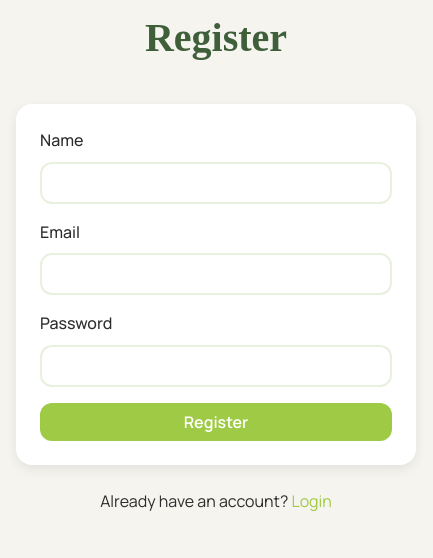
it: Register Page › shows validation error for short name
Type "A" into the field labelled "Name" at {"x": 216, "y": 183}, box top-left (40, 162), bottom-right (392, 204)
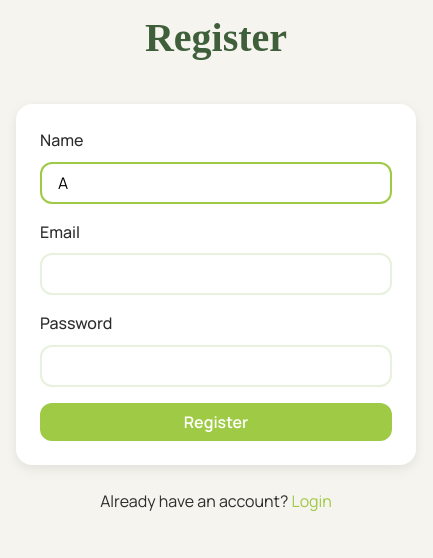
Type "test@example.com" into the field labelled "Email" at {"x": 216, "y": 274}, box top-left (40, 253), bottom-right (392, 295)
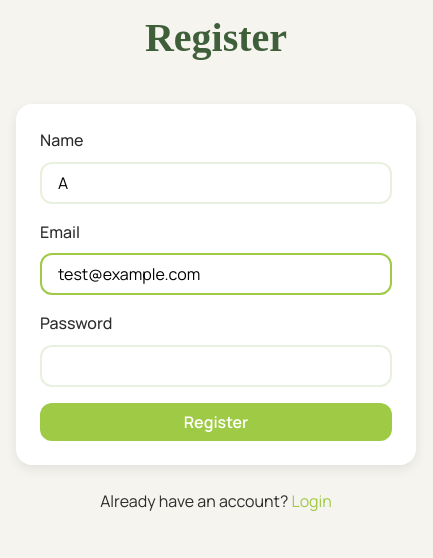
Type "password123" into the password field labelled "Password" at {"x": 216, "y": 366}, box top-left (40, 345), bottom-right (392, 387)
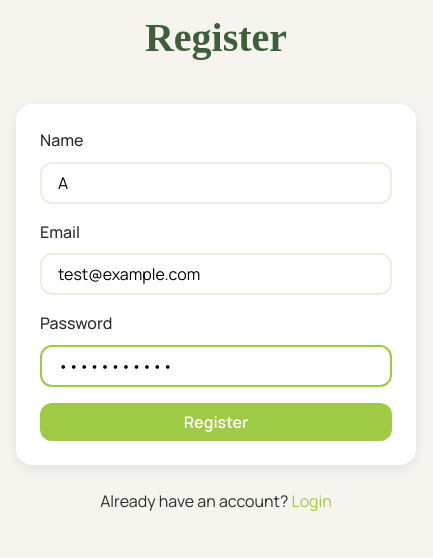
Click the button "Register" at {"x": 216, "y": 422}, box top-left (40, 403), bottom-right (392, 441)
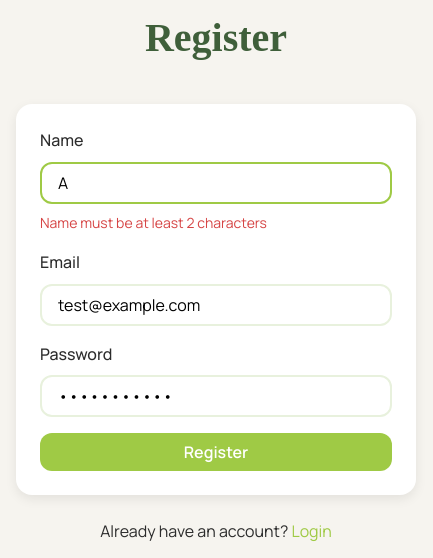
Result: the text "Name must be at least 2 characters" is shown at top-left (40, 213), bottom-right (267, 232)
